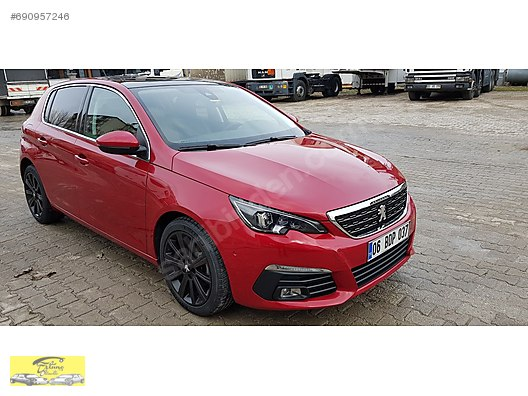peugeot: (15, 74, 423, 319)
